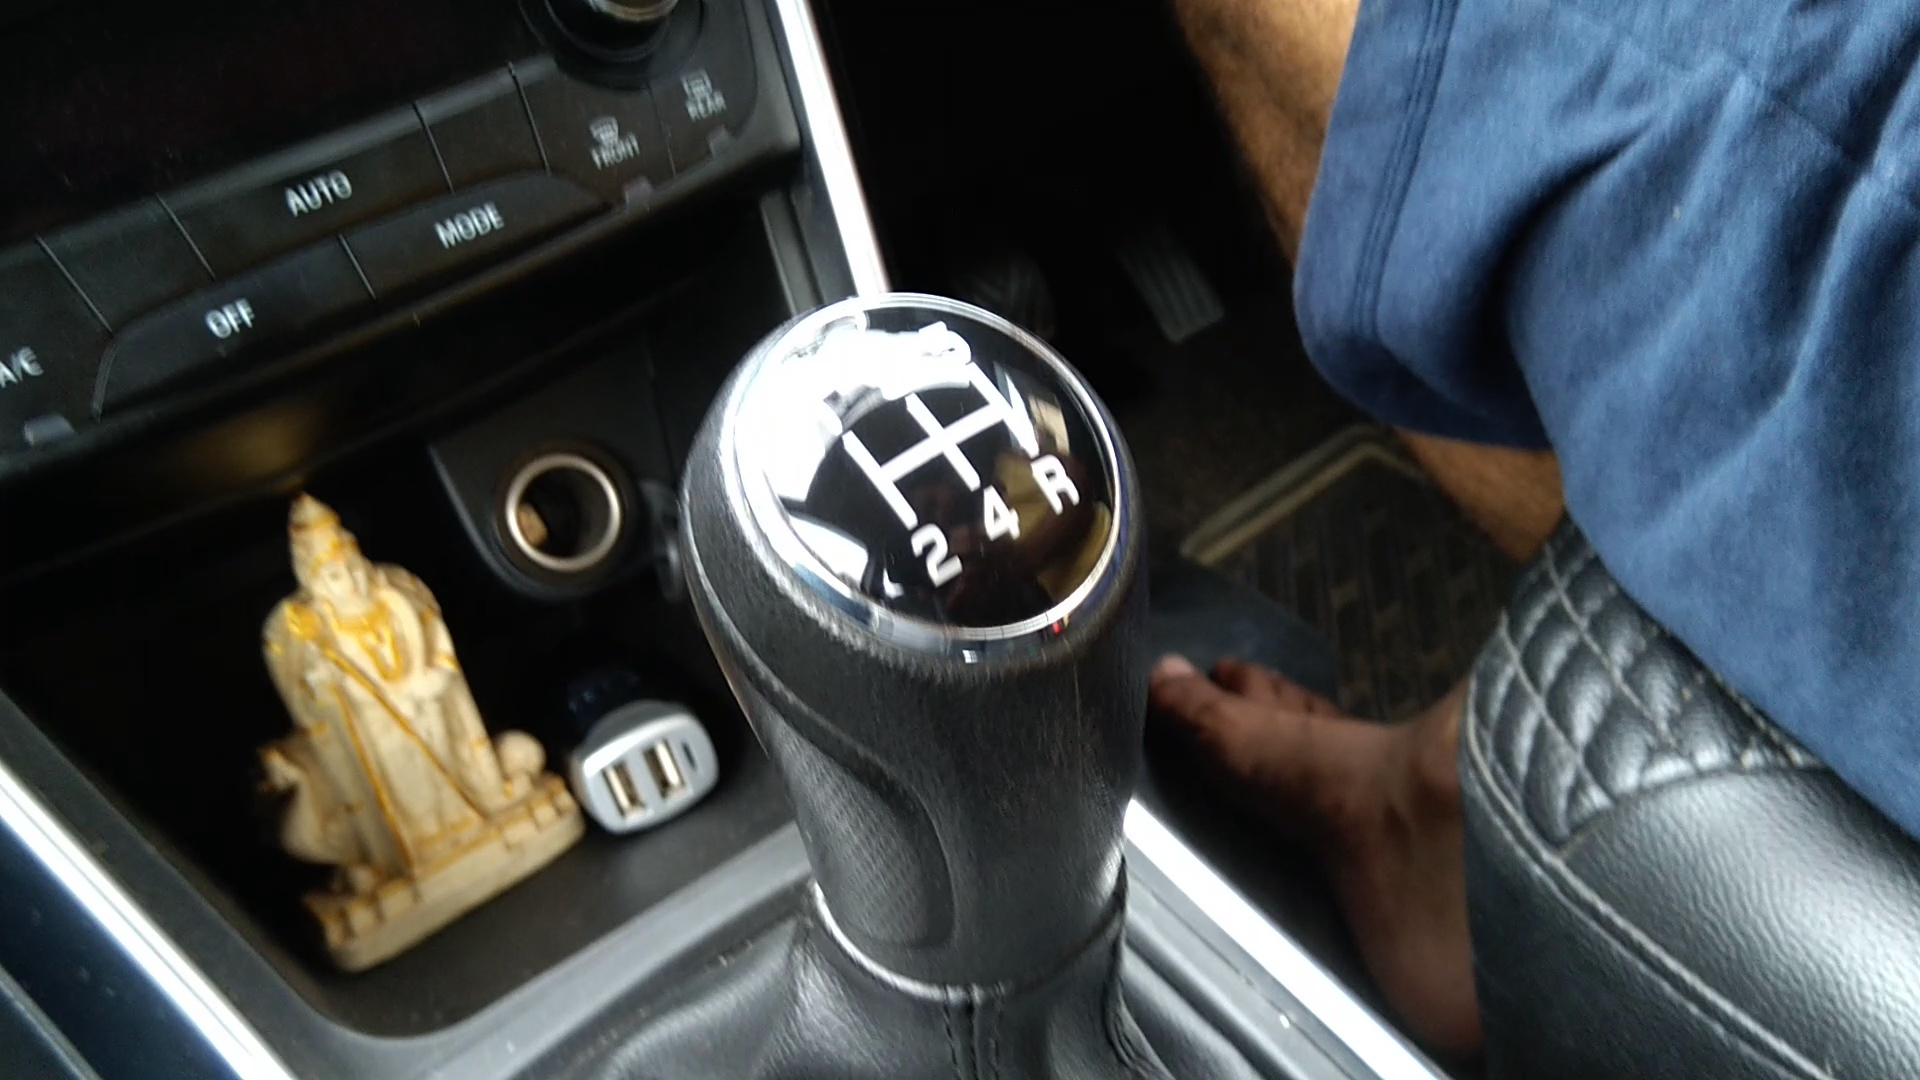manual_gear: (659, 277, 1160, 1044)
